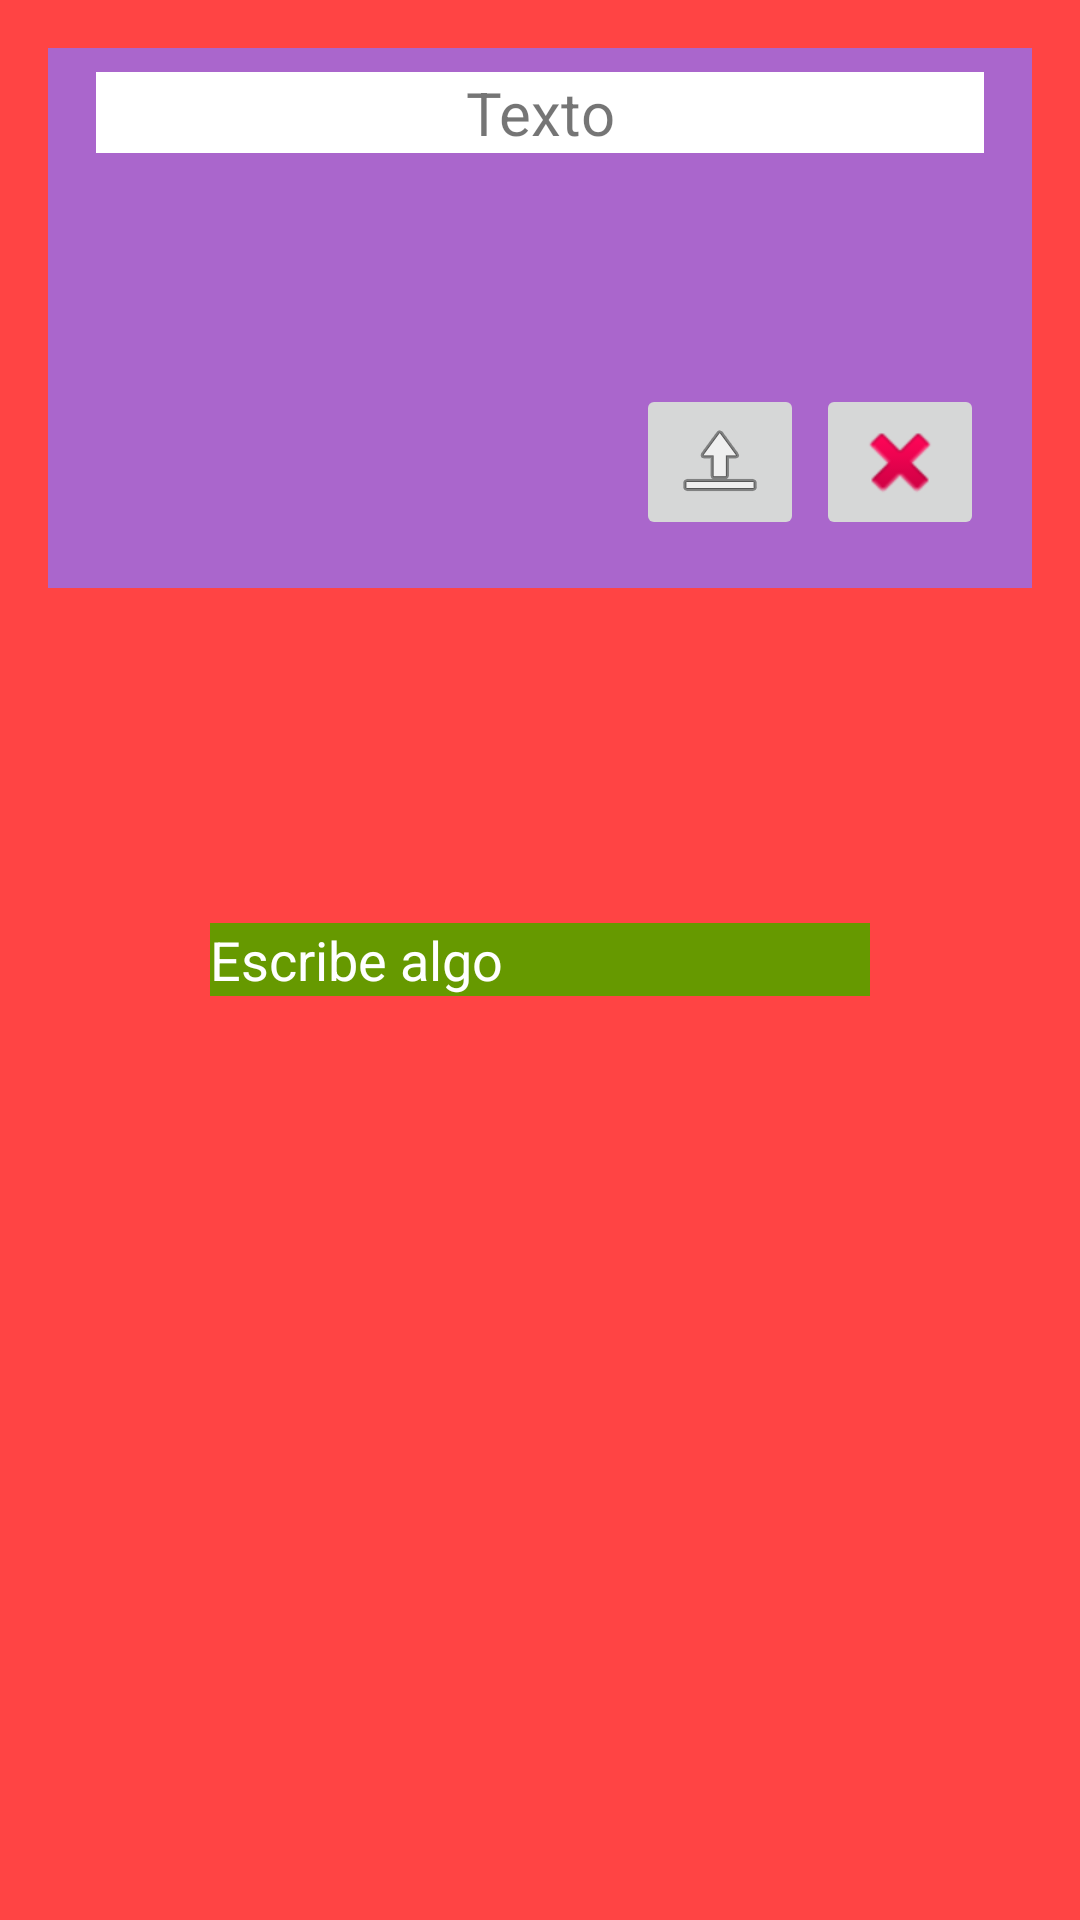

Screen size 1080x1920. Icon name, then its box in pixels as box=[x1, y1, x2, y2]:
delete: box=[828, 402, 972, 522]
upload: box=[648, 402, 792, 522]
